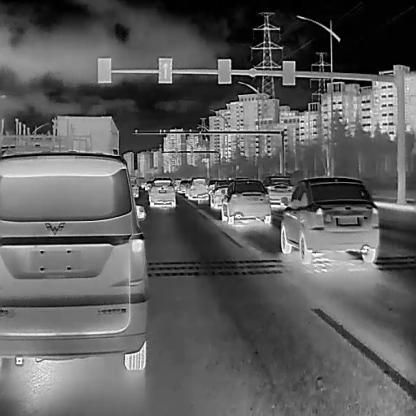car: (0, 151, 146, 371), (279, 175, 380, 263), (55, 112, 120, 169), (219, 177, 270, 225), (147, 176, 176, 208), (259, 175, 292, 203), (208, 178, 233, 207), (186, 177, 210, 200), (127, 175, 139, 197), (177, 178, 189, 193)
